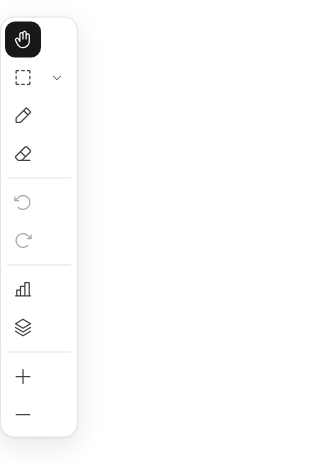
Test case: MapTools › offers the shapes with their keys in a menu
Click the button named "Shapes" at (57, 78), box [41,60,73,96]
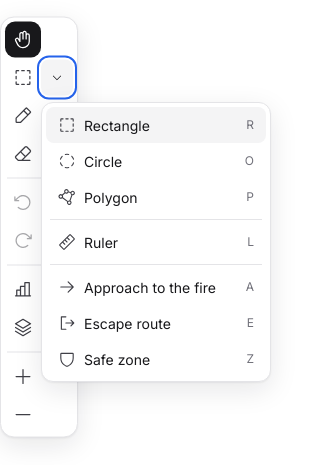
Expected: the menu item "Rectangle R" is checked, [46,107,266,143]
Click the menu item "Ruler L" at (156, 242), box [46,224,266,260]
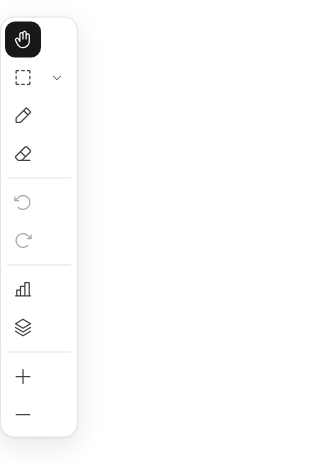
Expected: the menu is gone
